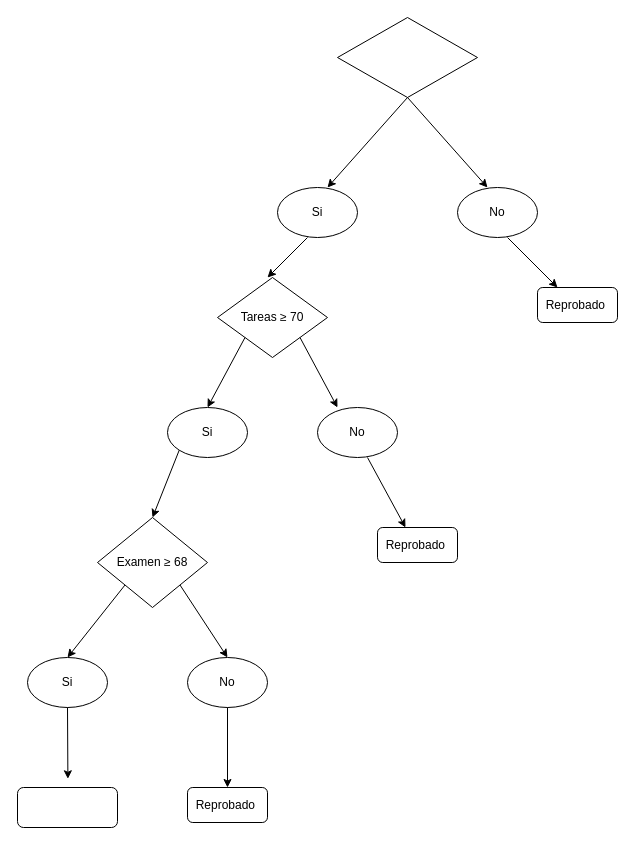
The diagram is 635 pixels wide and 845 high, and some of its shapes have lost their labels. The centre of each missing label's shape, as x and y in pixels:
Aprobado: the point at 67,807
Asistencia ≥ 70: the point at 407,57
